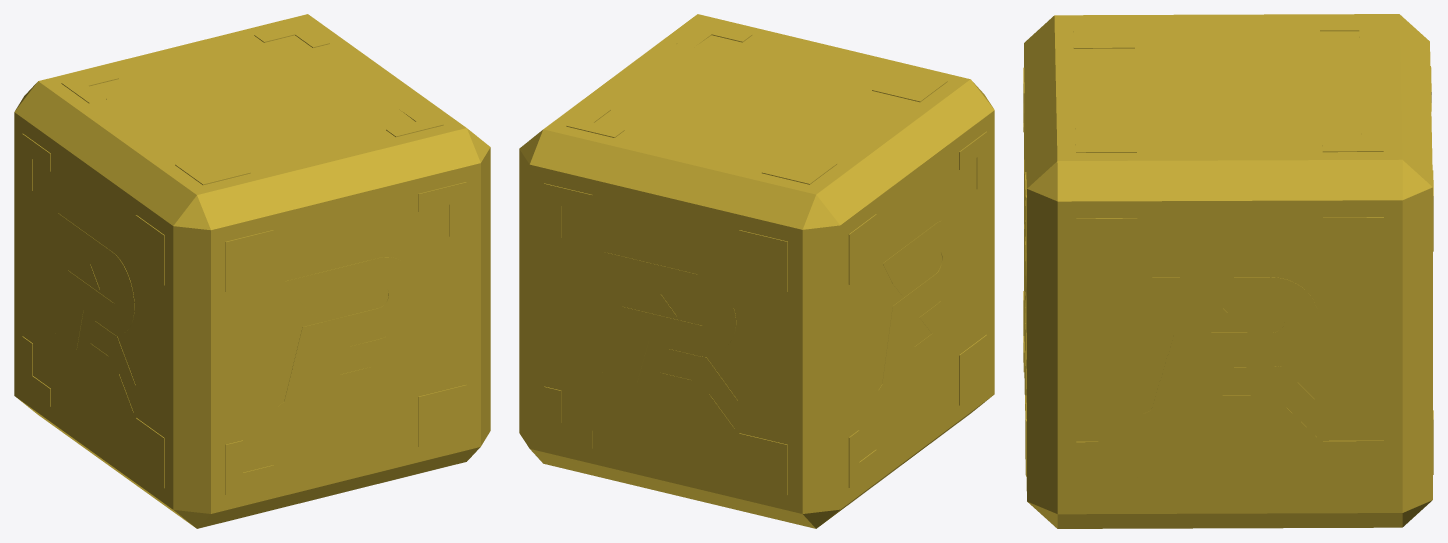
Rendered from GoldOre.fbx.
3 views of the same model, side by side, from view 1: azimuth 30°, elevation 25°; view 2: azimuth 150°, elevation 25°; view 3: azimuth 270°, elevation 25° (orthographic). The views are drawn at different scales.
Visible parts, largest first — view 1: 金矿; view 2: 金矿; view 3: 金矿.
Part boxes in pixels (box(x1,y1,x2,y2)): 金矿: box(14, 14, 490, 528); 金矿: box(519, 14, 994, 528); 金矿: box(1023, 14, 1433, 528).
Size of the model in its own units: 16.95 by 16.88 by 16.95.
